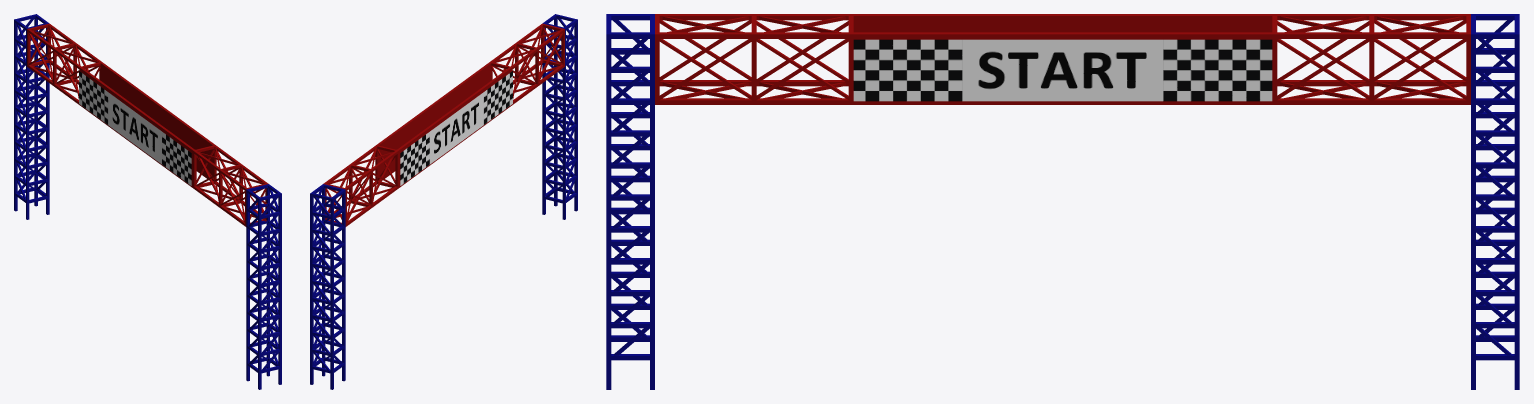
Rendered from start point.fbx.
The picture shows the model from 3 angles, left to right: view 1: azimuth 30°, elevation 25°; view 2: azimuth 150°, elevation 25°; view 3: azimuth 270°, elevation 25°; orthographic projection. The views are drawn at different scales.
Visible parts, largest first — view 1: Starting Line.001, Starting Line.002, Starting Line.004; view 2: Starting Line.001, Starting Line.002, Starting Line.004; view 3: Starting Line.002, Starting Line.004, Starting Line.001.
Boxes of the visible parts, x1=… form: Starting Line.001: x1=14, y1=14, x2=281, y2=389; Starting Line.002: x1=27, y1=23, x2=268, y2=226; Starting Line.004: x1=79, y1=71, x2=191, y2=185; Starting Line.001: x1=310, y1=14, x2=577, y2=389; Starting Line.002: x1=323, y1=23, x2=564, y2=226; Starting Line.004: x1=400, y1=71, x2=512, y2=185; Starting Line.002: x1=655, y1=14, x2=1470, y2=104; Starting Line.004: x1=853, y1=39, x2=1272, y2=101; Starting Line.001: x1=606, y1=14, x2=1519, y2=389.
Size of the model in its own units: 176 by 1283 by 2986.
